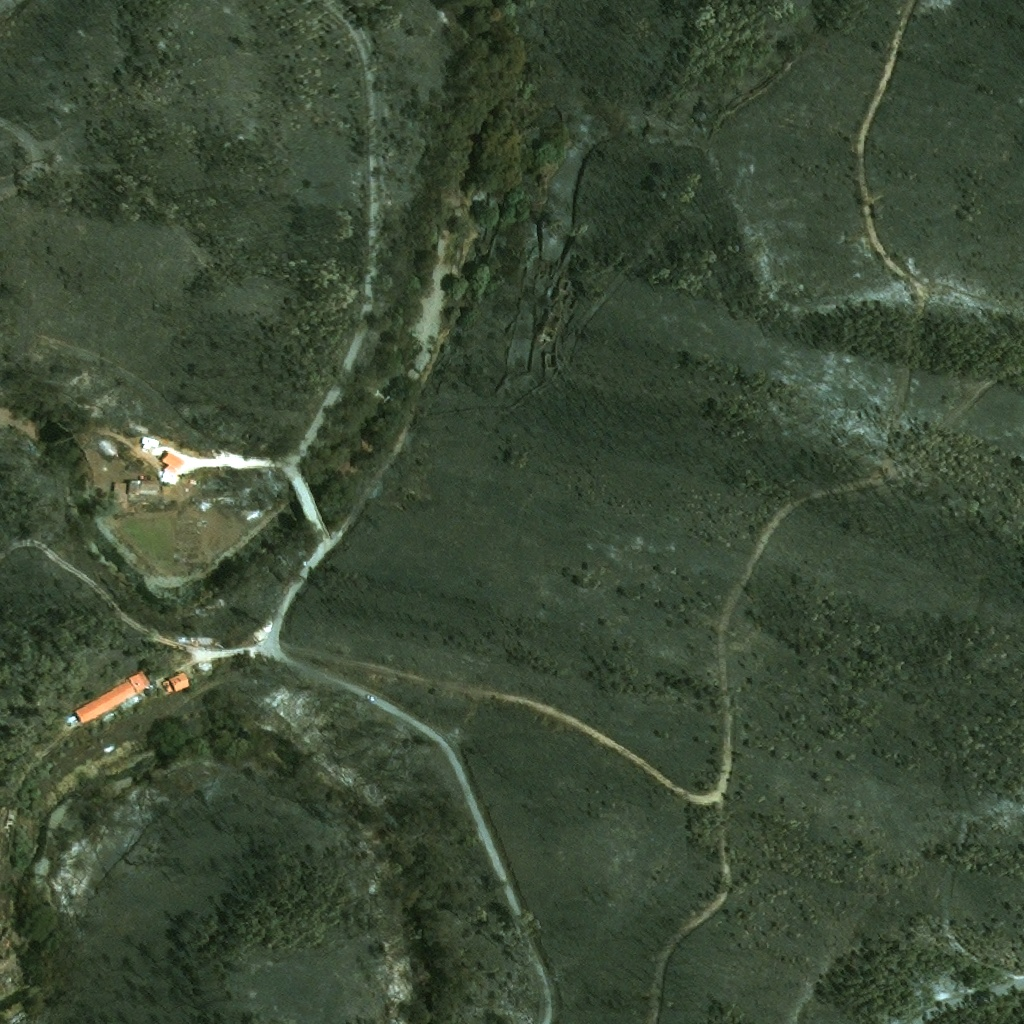0 no-damage: (73, 668, 152, 723), (113, 480, 158, 498), (162, 669, 190, 694), (141, 437, 159, 453), (168, 457, 184, 470)
